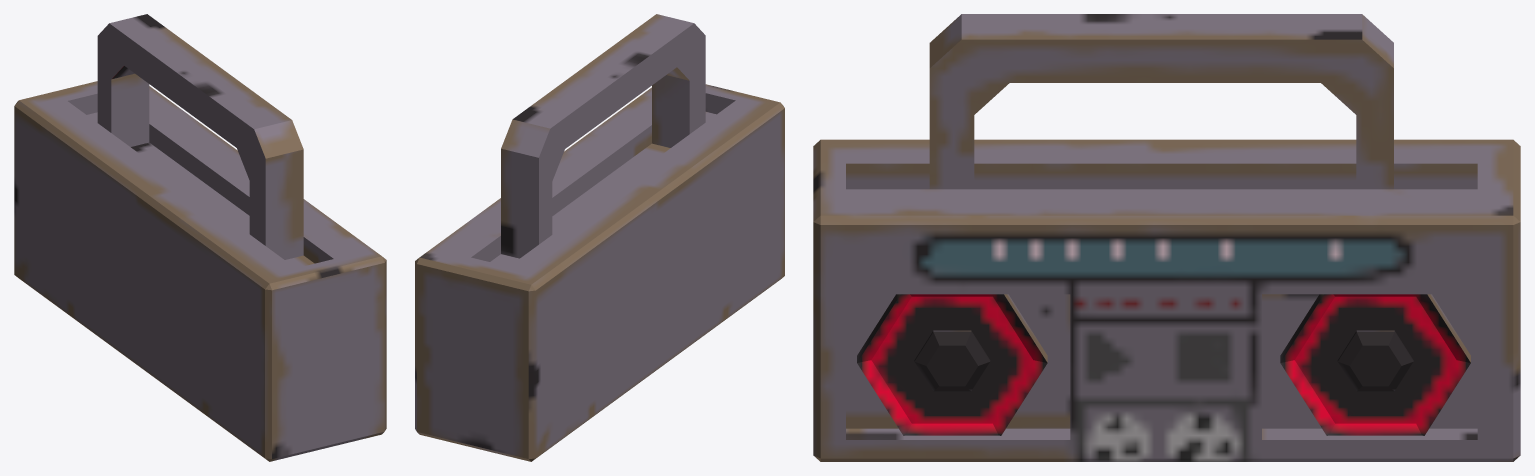
Rendered from boom_box.fbx.
3 renders of one model, left to right at view 1: azimuth 30°, elevation 25°; view 2: azimuth 150°, elevation 25°; view 3: azimuth 270°, elevation 25°, orthographic. The views are drawn at different scales.
Visible parts, largest first — view 1: Box; view 2: Box; view 3: Box, Speaker.
Boxes of the visible parts, left/top/right/bottom form: Box: left=14, top=14, right=386, bottom=461; Box: left=415, top=14, right=784, bottom=461; Box: left=813, top=14, right=1520, bottom=461; Speaker: left=857, top=294, right=1470, bottom=435.
Size of the model in its own units: 174 by 393 by 636.
1 material, 1 textured.
